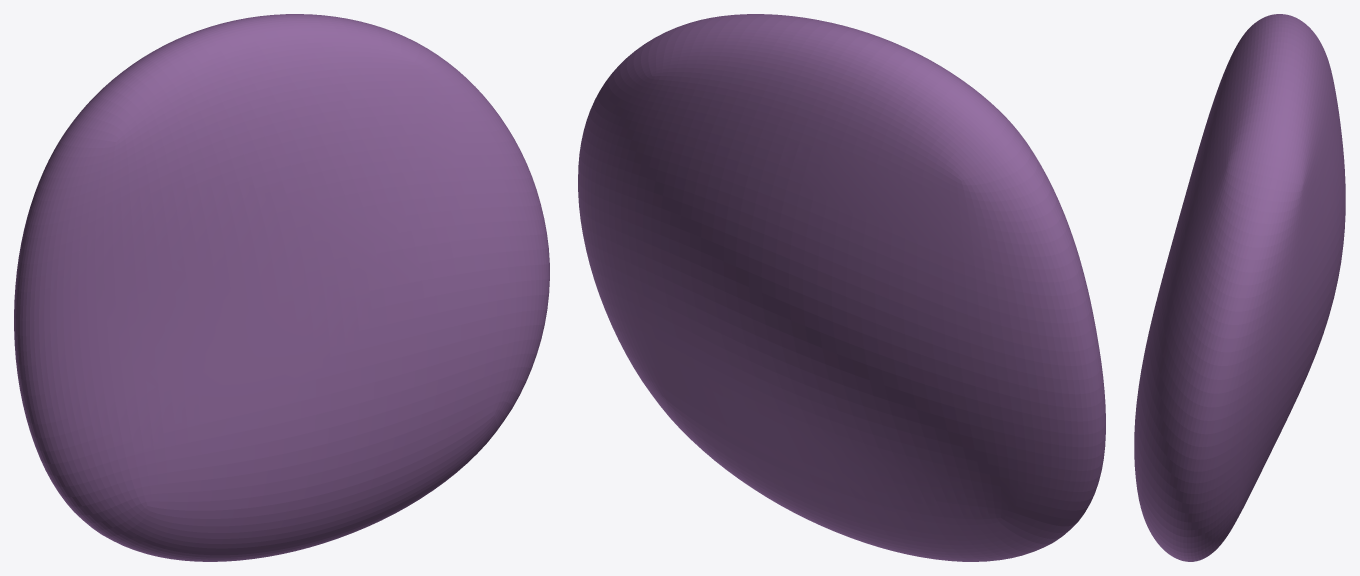
The model's file is stone_5.fbx.
3 renders of one model, left to right at view 1: azimuth 30°, elevation 25°; view 2: azimuth 150°, elevation 25°; view 3: azimuth 270°, elevation 25°, orthographic. The views are drawn at different scales.
Parts seen in each view (by area): view 1: Cube.009; view 2: Cube.009; view 3: Cube.009.
Boxes of the visible parts, bbox=[...] form: Cube.009: bbox=[14, 14, 549, 561]; Cube.009: bbox=[578, 14, 1105, 561]; Cube.009: bbox=[1134, 14, 1345, 561].
Size of the model in its own units: 280 by 268 by 106.
